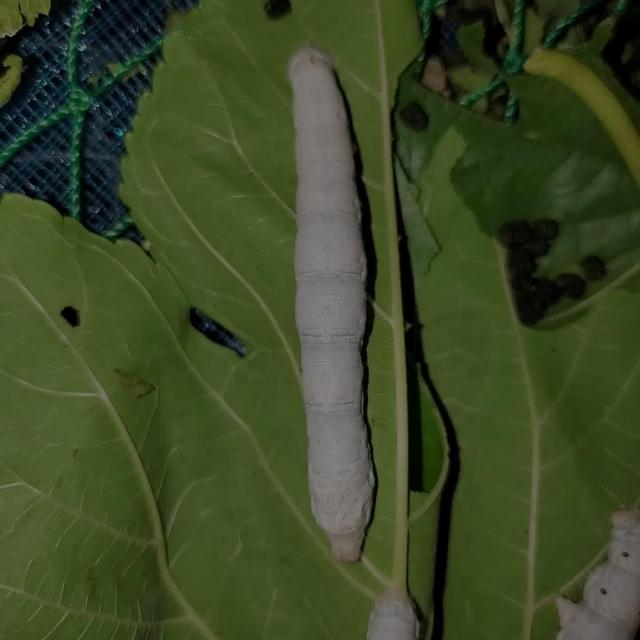Healthy: (261, 39, 417, 571)
